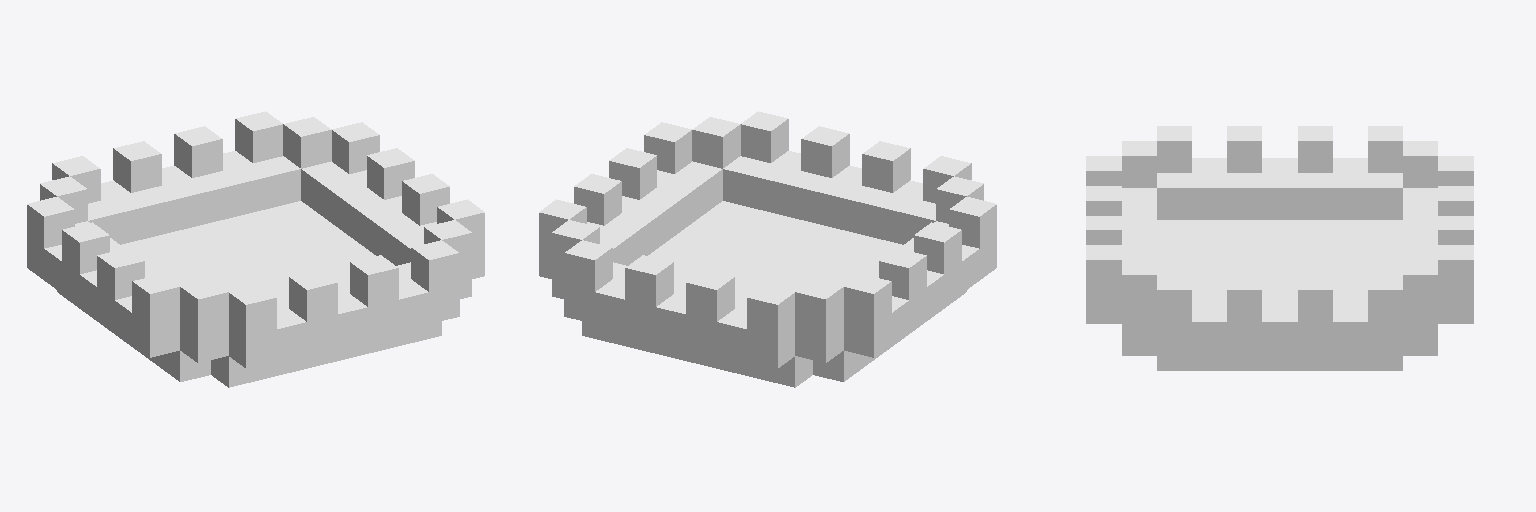
File: WallCurved_TallUpper1.obj
3 views of the same model, side by side, from view 1: azimuth 30°, elevation 25°; view 2: azimuth 150°, elevation 25°; view 3: azimuth 270°, elevation 25° (orthographic).
Visible parts, largest first — view 1: WallCurved_TallUpper1; view 2: WallCurved_TallUpper1; view 3: WallCurved_TallUpper1.
Boxes of the visible parts, box(x1,y1,x2,y2) form: WallCurved_TallUpper1: box(27, 111, 484, 387); WallCurved_TallUpper1: box(539, 111, 996, 387); WallCurved_TallUpper1: box(1086, 126, 1473, 370).
Size of the model in its own units: 11 by 3 by 11.